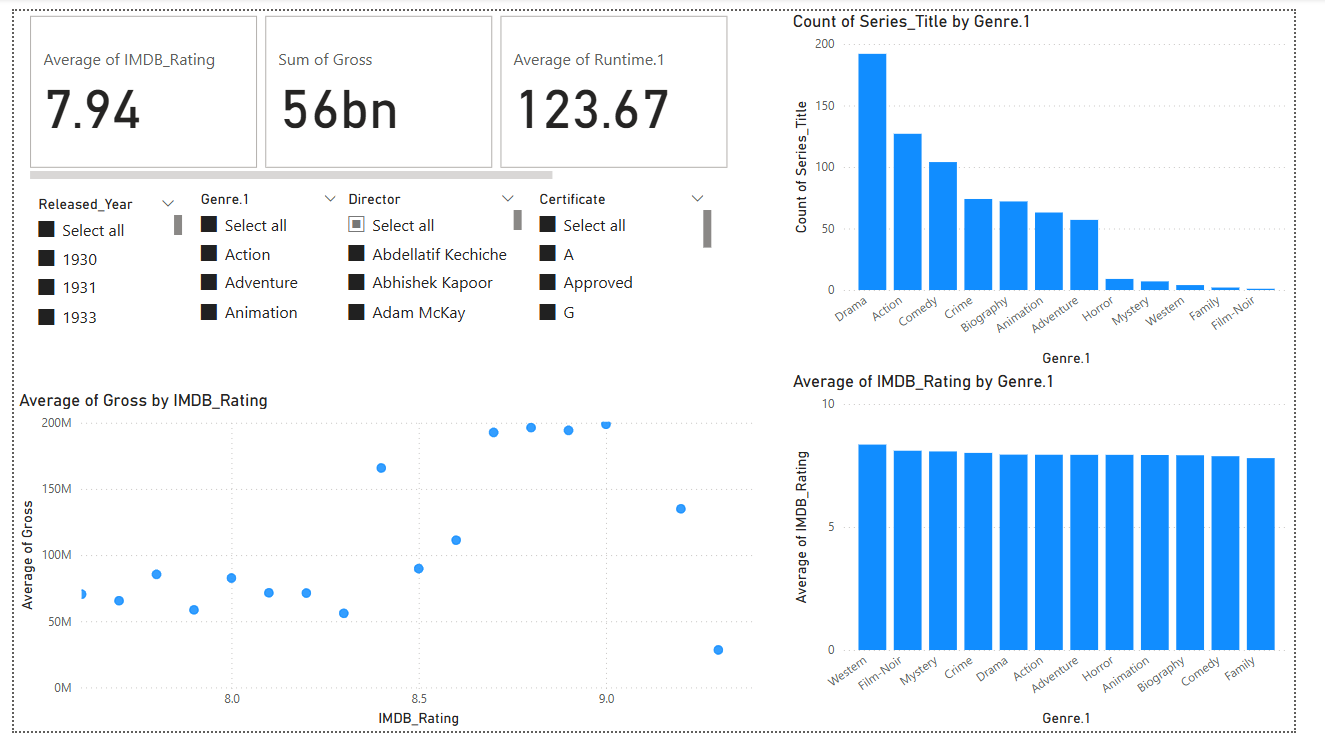

The page's visual inventory and layout, read from the dashboard file:
{"tool":"powerbi","page":{"name":"Page 1","canvas":[1280,720],"ordinal":0},"visuals":[{"type":"cardVisual","fields":{"Data":["imdb_top_1000 (2).IMDB_Rating","imdb_top_1000 (2).Gross","imdb_top_1000 (2).Runtime.1","imdb_top_1000 (2).Total Movies"]},"box":[3.8,42.5,708.8,175],"z":0},{"type":"columnChart","title":"Number of Movies per Genre","fields":{"Category":["imdb_top_1000 (2).Genre.1"],"Y":["imdb_top_1000 (2).Series_Title"]},"box":[773.3,0,506.7,360],"z":2},{"type":"columnChart","fields":{"Category":["imdb_top_1000 (2).Genre.1"],"Y":["imdb_top_1000 (2).IMDB_Rating"]},"box":[773.3,360,506.7,360],"z":3},{"type":"scatterChart","title":"Box Office Gross vs IMDb Rating","fields":{"X":["imdb_top_1000 (2).IMDB_Rating"],"Y":["imdb_top_1000 (2).Gross"]},"box":[0,378.3,755,341.7],"z":4},{"type":"slicer","fields":{"Values":["imdb_top_1000 (2).Released_Year"]},"box":[3.7,218,161.7,140],"z":5},{"type":"slicer","fields":{"Values":["imdb_top_1000 (2).Genre.1"]},"box":[165.3,213,161.7,150],"z":6},{"type":"slicer","fields":{"Values":["imdb_top_1000 (2).Director"]},"box":[313.4,212.7,191.4,150],"z":7},{"type":"slicer","fields":{"Values":["imdb_top_1000 (2).Certificate"]},"box":[504.9,212.7,190,150],"z":8},{"type":"textbox","box":[3.8,0,751.2,42.5],"z":9}]}

Visuals, with their boxes in screenshot pixels (x1, y1, x2, y2), scaled from the page's 1280x720 canvas onto the 1325x742 screenshot:
cardVisual - imdb_top_1000 (2).IMDB_Rating x imdb_top_1000 (2).Gross: [4, 44, 738, 224]
"Number of Movies per Genre" columnChart: [800, 0, 1324, 371]
columnChart - imdb_top_1000 (2).Genre.1 x imdb_top_1000 (2).IMDB_Rating: [800, 371, 1324, 741]
"Box Office Gross vs IMDb Rating" scatterChart: [0, 390, 782, 741]
slicer - imdb_top_1000 (2).Released_Year: [4, 225, 171, 369]
slicer - imdb_top_1000 (2).Genre.1: [171, 220, 338, 374]
slicer - imdb_top_1000 (2).Director: [324, 219, 523, 374]
slicer - imdb_top_1000 (2).Certificate: [523, 219, 719, 374]
textbox: [4, 0, 782, 44]
